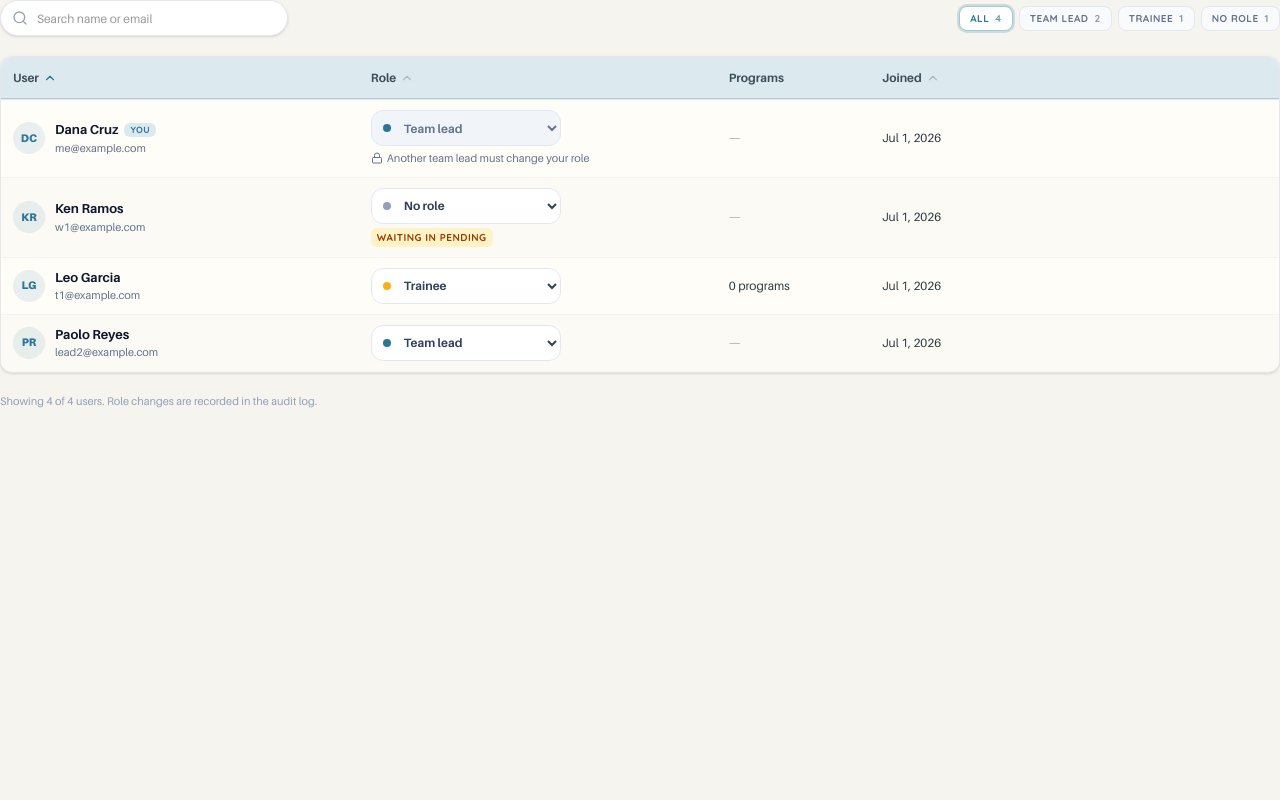
Test: UserRolesTable › reloads instead of overwriting when someone else changed the role
Select "Team member" in the dropdown named "Role for Leo Garcia": x=466, y=286 top-left (371, 268), bottom-right (561, 304)
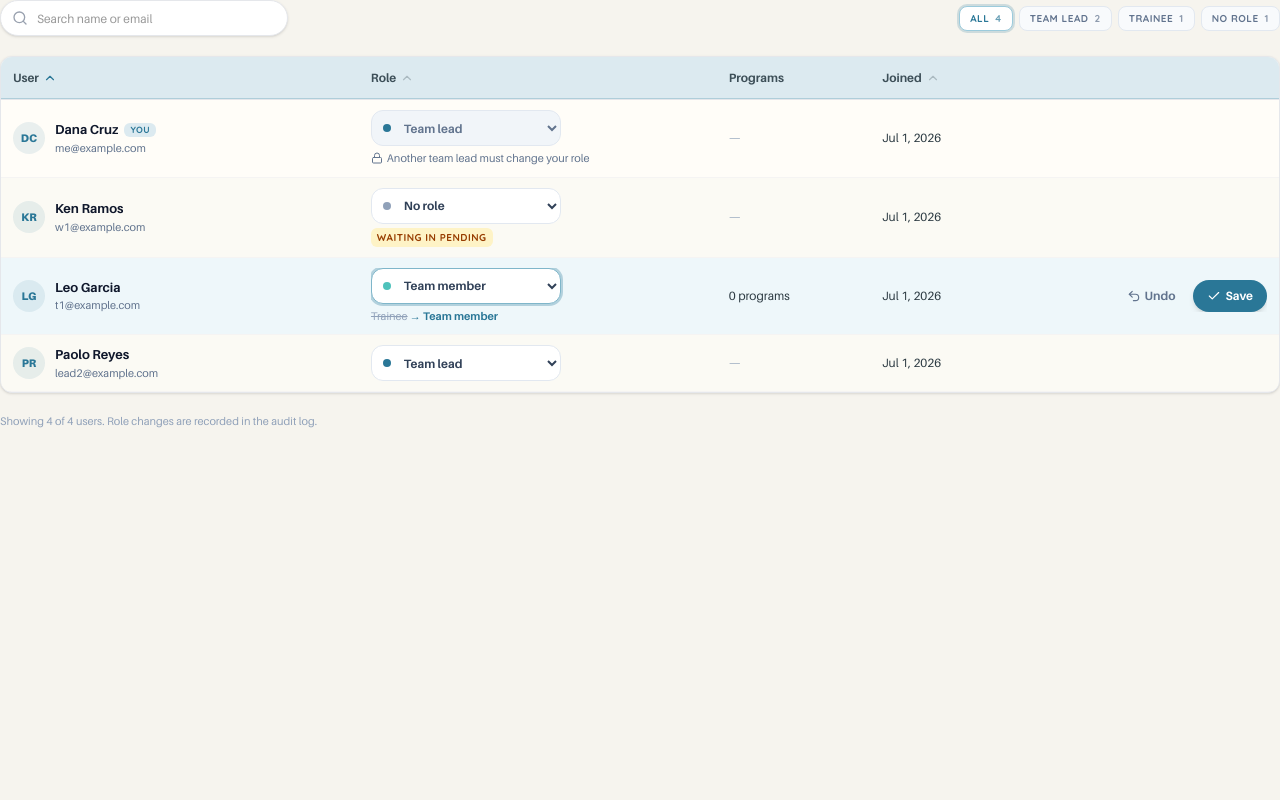
Click the button with aria-label "Save role for Leo Garcia": x=1230, y=296 top-left (1193, 280), bottom-right (1267, 312)
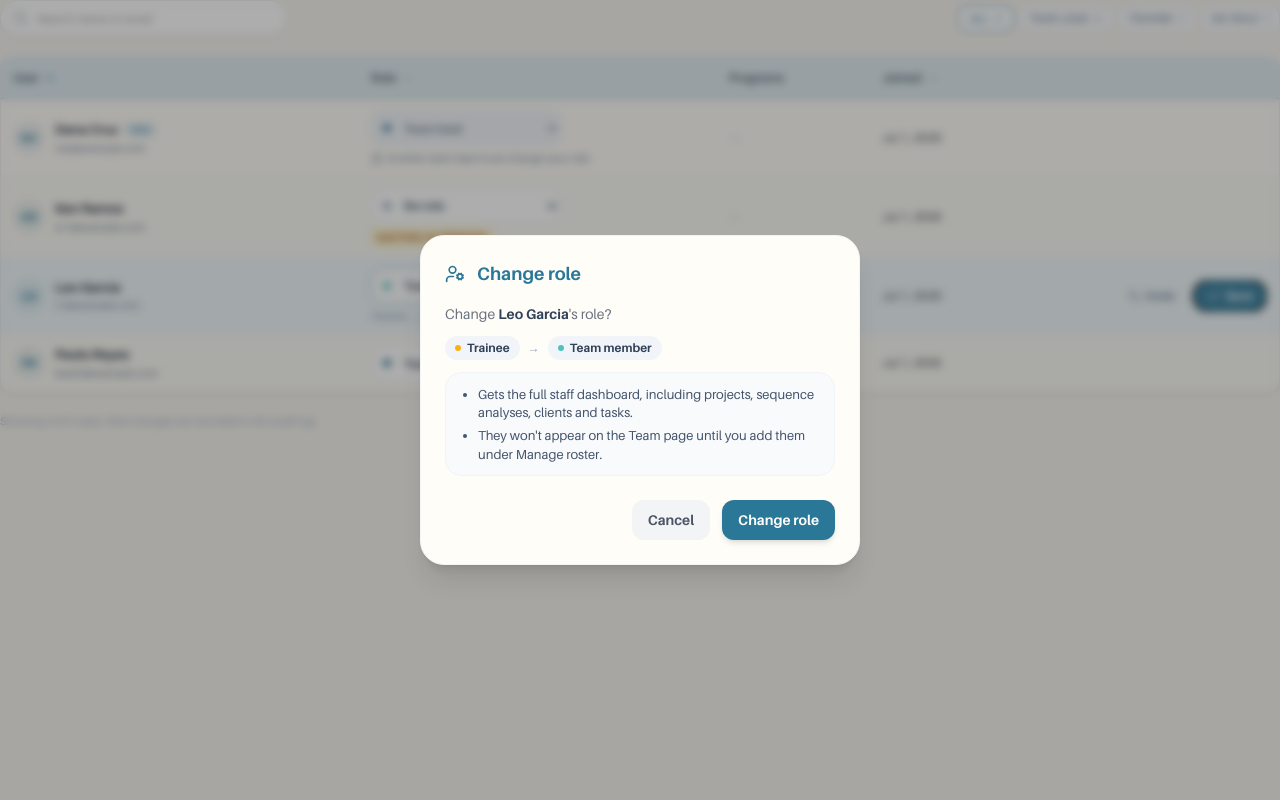
Click the button "Change role": x=779, y=520 top-left (722, 500), bottom-right (835, 540)
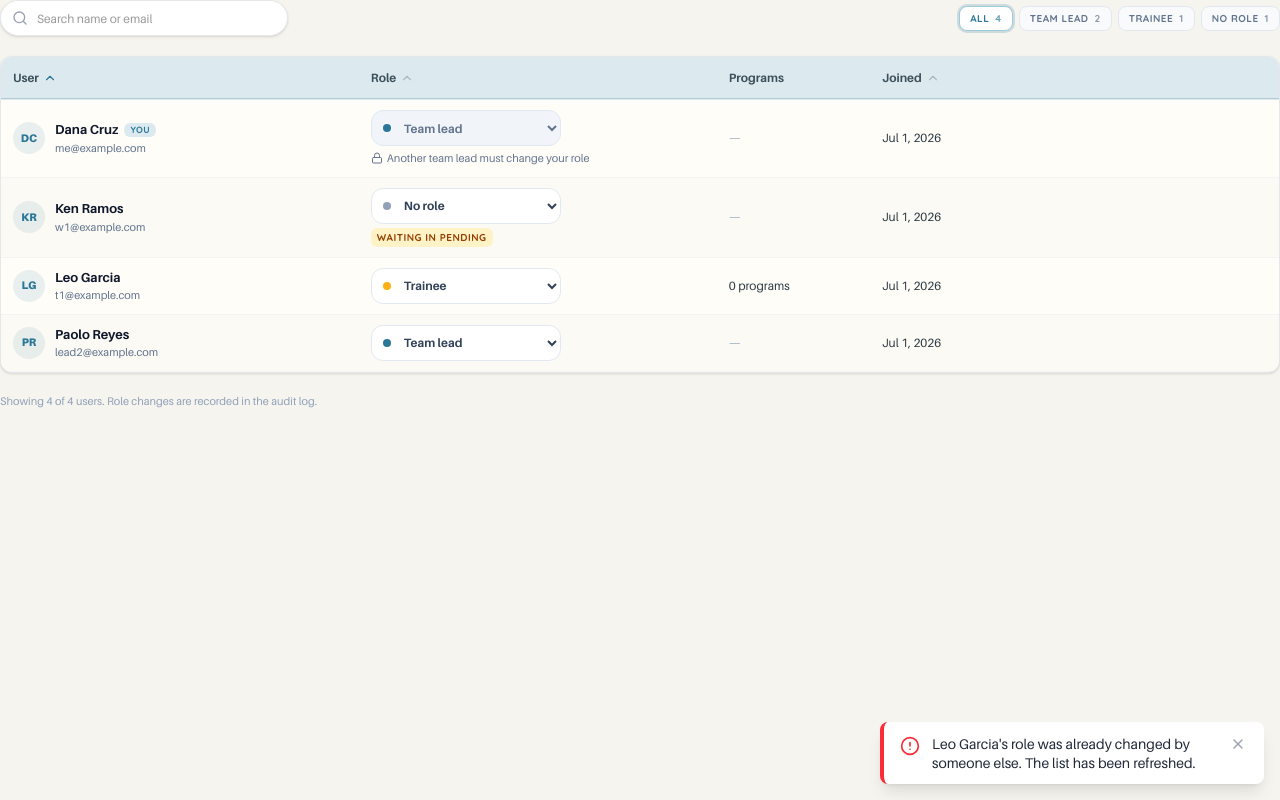
Check: the text "already changed by someone else" is shown, box top-left (932, 734), bottom-right (1196, 771)
